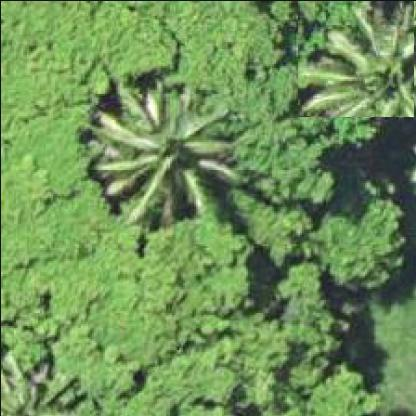coconut tree: (78, 78, 250, 232), (296, 1, 414, 117)
